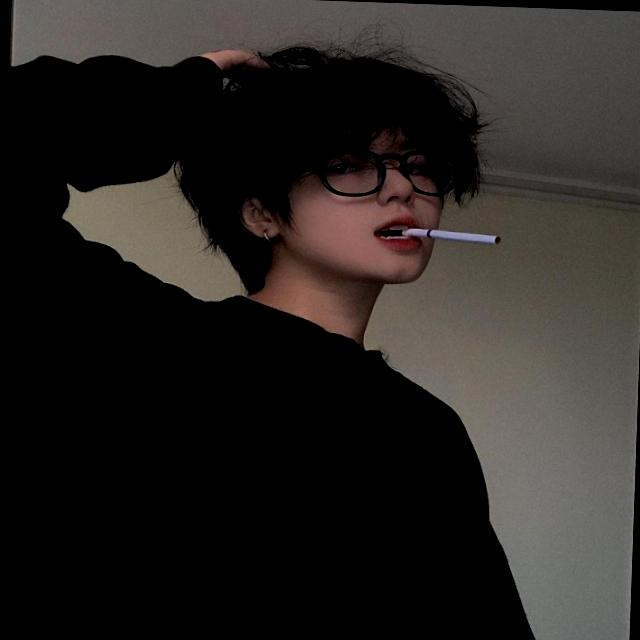smoke: (378, 210, 540, 266)
